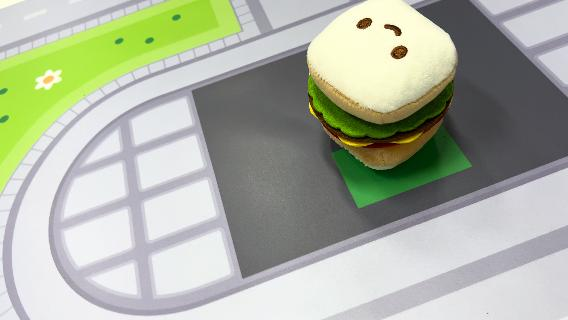sandwich: (304, 1, 460, 171)
